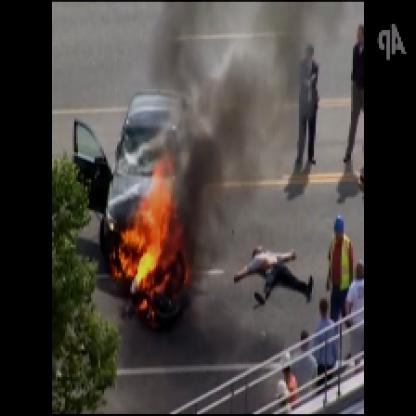Fire: (109, 147, 197, 321)
Smoke: (163, 2, 303, 251)
